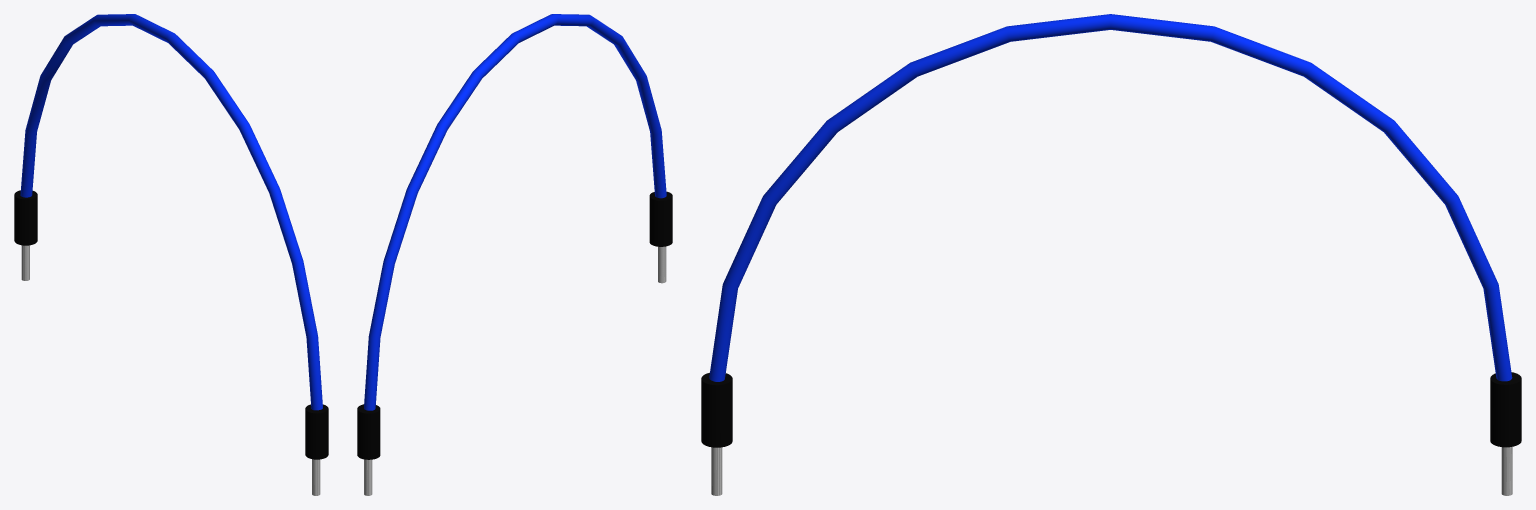
The model's file is red+Lead.gltf.
3 views of the same model, side by side, from view 1: azimuth 30°, elevation 25°; view 2: azimuth 150°, elevation 25°; view 3: azimuth 270°, elevation 25° (orthographic). The views are drawn at different scales.
Visible parts, largest first — view 1: wire, LeadTip (×2); view 2: wire, LeadTip (×2); view 3: wire, LeadTip (×2).
Part boxes in pixels (left/top/right/bottom): wire: left=20, top=14, right=322, bottom=410; LeadTip (×2): left=14, top=190, right=328, bottom=459; wire: left=364, top=14, right=666, bottom=410; LeadTip (×2): left=357, top=191, right=672, bottom=459; wire: left=709, top=14, right=1512, bottom=381; LeadTip (×2): left=701, top=372, right=1521, bottom=447.
Bounding box in the file's own units: 0.2872 × 4.7 × 7.29.
Materials: 3 (1 with a texture image).
